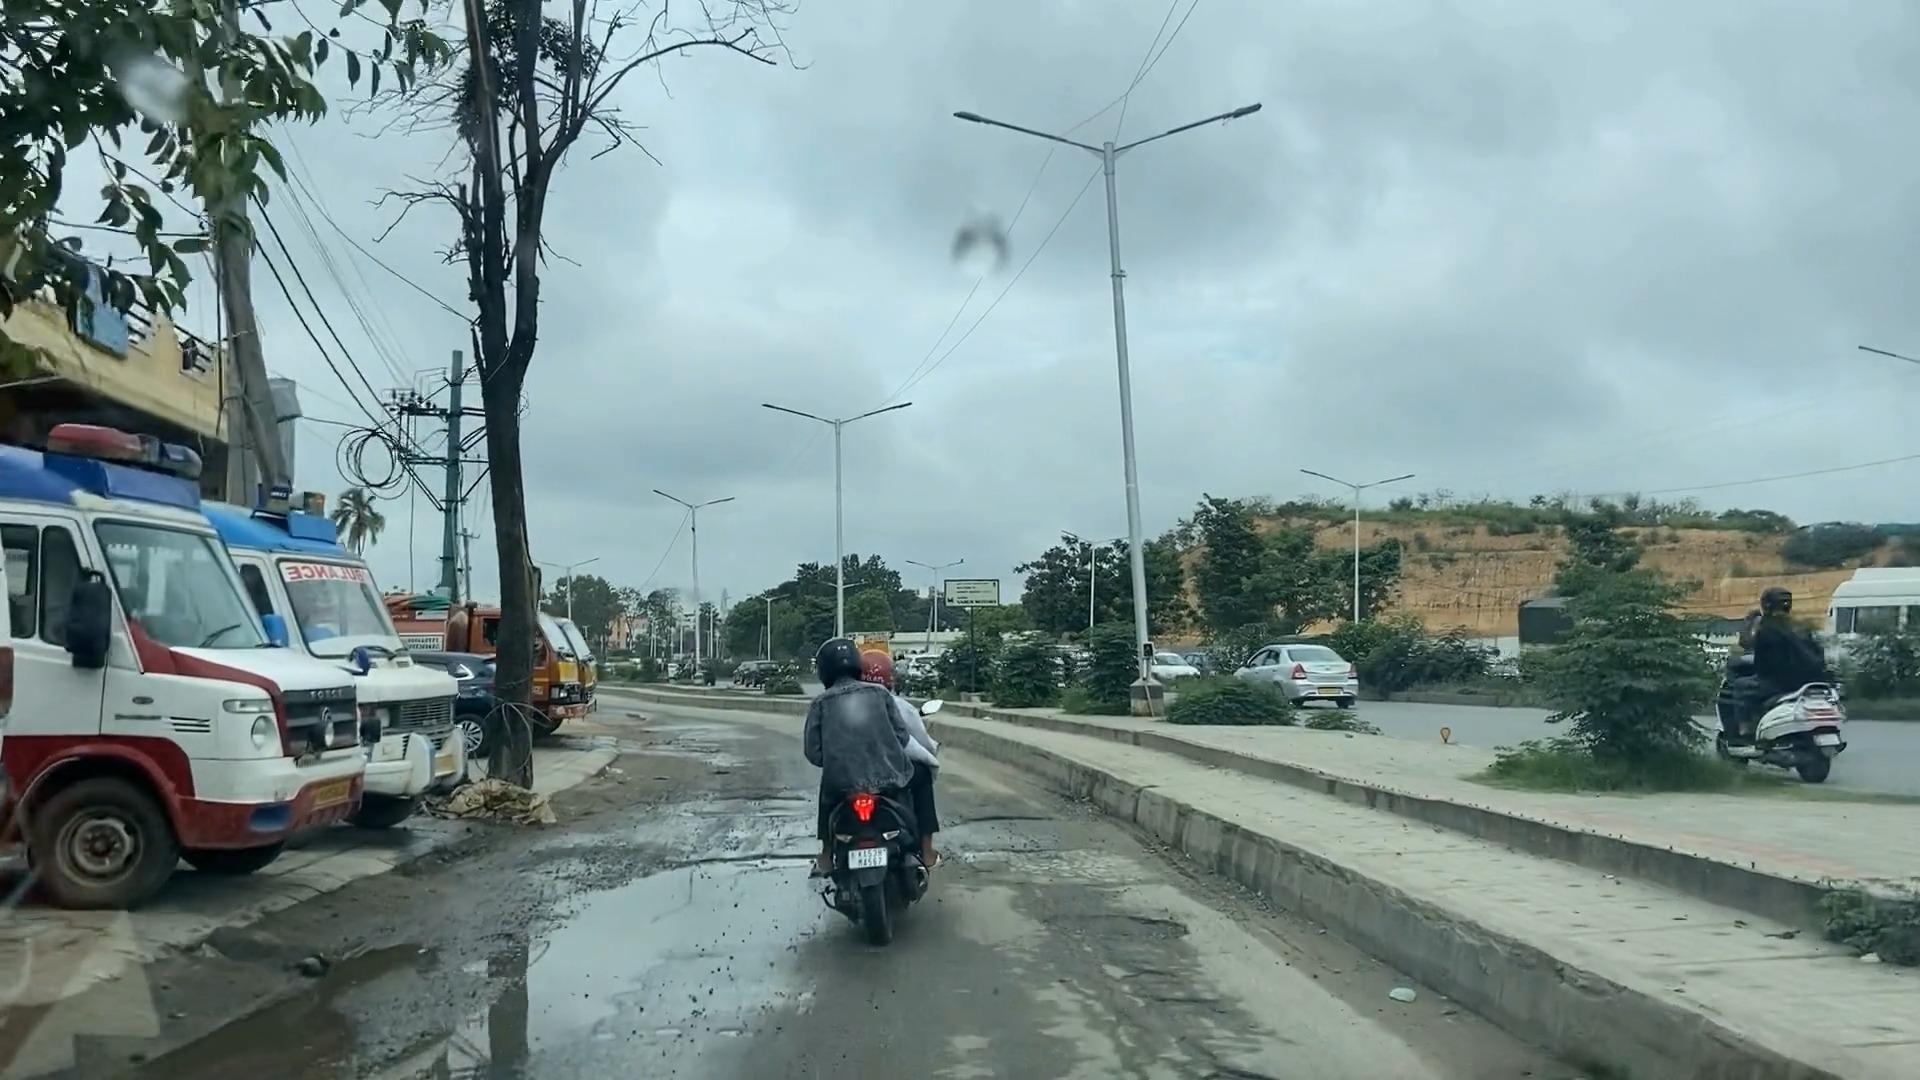LMV: (816, 640, 938, 940)
RoadDamages: (1056, 901, 1238, 1076), (630, 760, 777, 864), (964, 800, 1109, 891)
